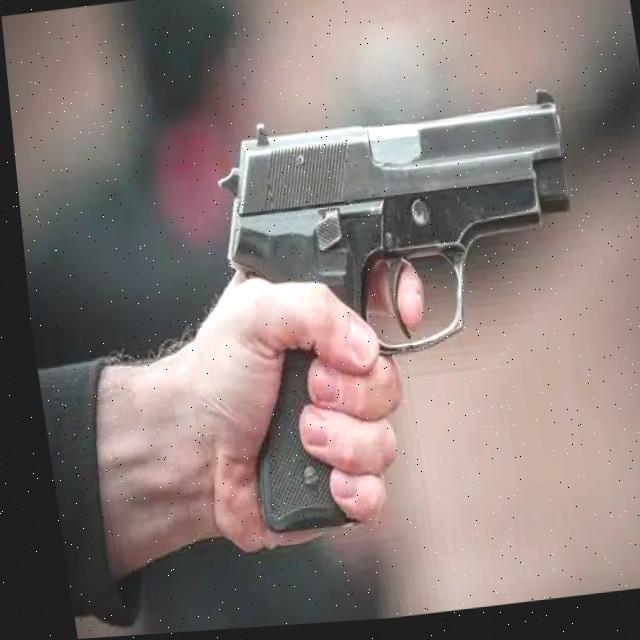gun: (218, 91, 572, 358), (256, 351, 358, 534)
